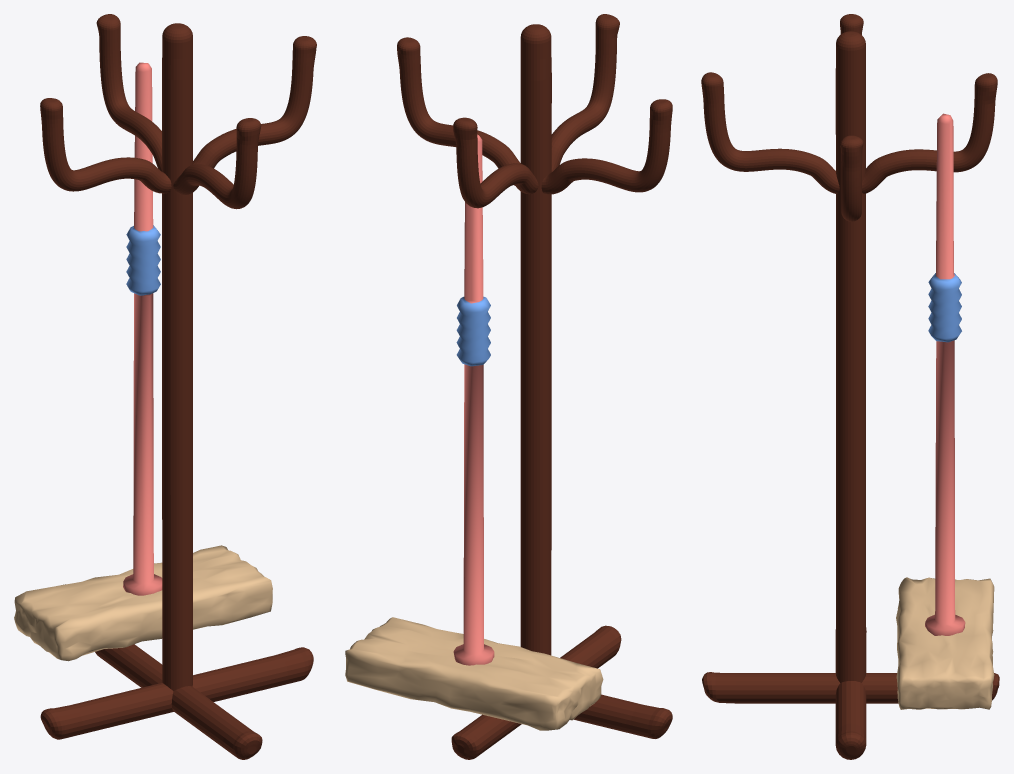
Rendered from hanger_mop.fbx.
3 views of the same model, side by side, from view 1: azimuth 30°, elevation 25°; view 2: azimuth 150°, elevation 25°; view 3: azimuth 270°, elevation 25° (orthographic). The views are drawn at different scales.
Parts seen in each view (by area): view 1: mopstick1; view 2: mopstick1; view 3: mopstick1.
Boxes of the visible parts, left/top/right/bottom form: mopstick1: left=14, top=14, right=316, bottom=759; mopstick1: left=345, top=14, right=672, bottom=759; mopstick1: left=701, top=14, right=999, bottom=759.
Bounding box in the file's own units: 135 × 323 × 131.
